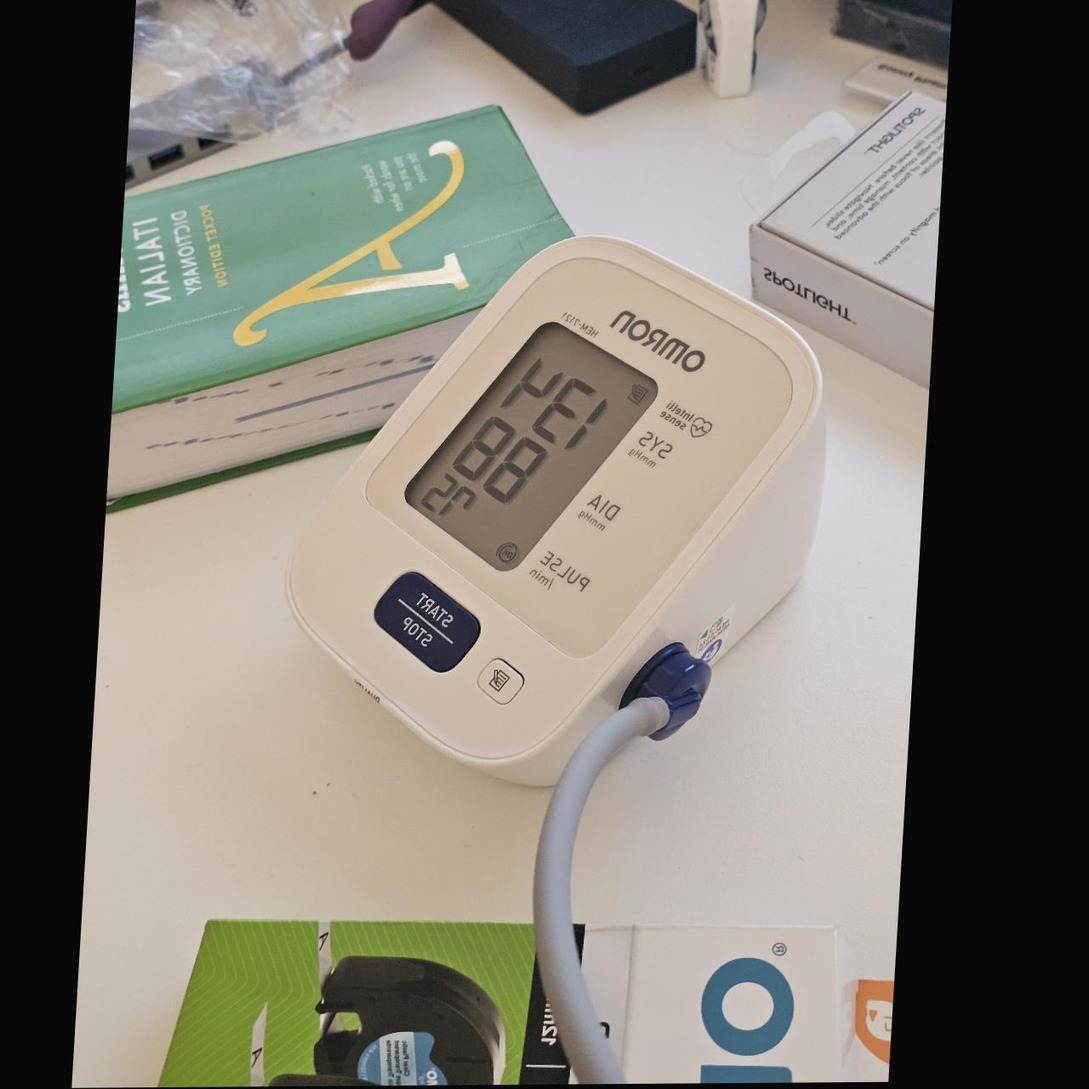blood pressure monitor: (264, 231, 844, 791)
